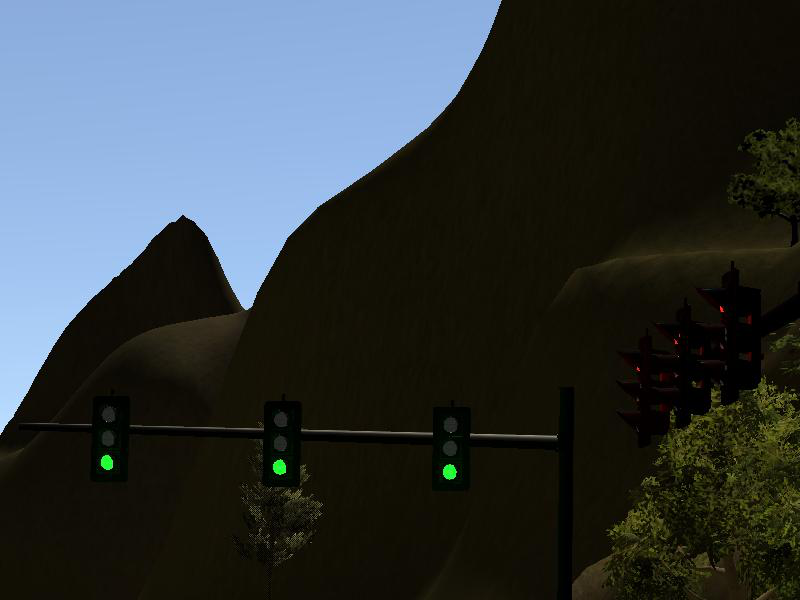green: (91, 398, 131, 481), (266, 399, 301, 488), (434, 408, 472, 489)
